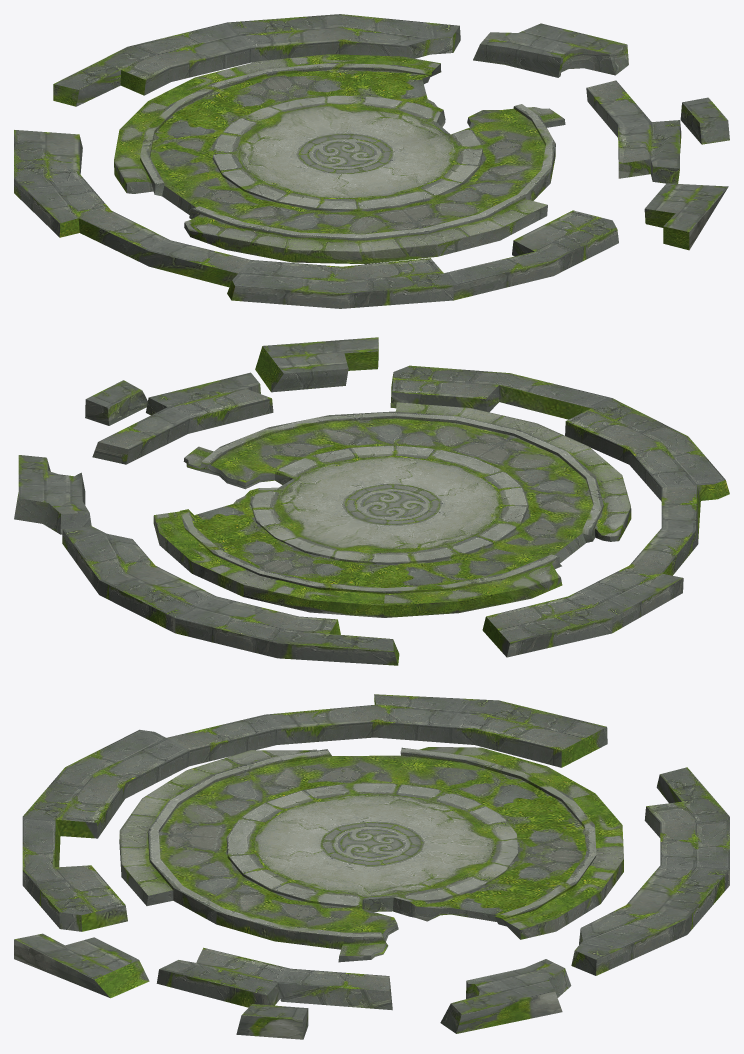
File: xl_taizi_3.FBX
The picture shows the model from 3 angles, top to bottom: view 1: azimuth 30°, elevation 25°; view 2: azimuth 150°, elevation 25°; view 3: azimuth 270°, elevation 25°; orthographic projection. The views are drawn at different scales.
Visible parts, largest first — view 1: xl_taizi_3; view 2: xl_taizi_3; view 3: xl_taizi_3.
Boxes of the visible parts, x1,y1,x2,y2 form: xl_taizi_3: [14, 14, 729, 308]; xl_taizi_3: [14, 337, 729, 665]; xl_taizi_3: [14, 694, 729, 1039].
Size of the model in its own units: 2335 by 2169 by 78.9.
Materials: 1 (1 with a texture image).
